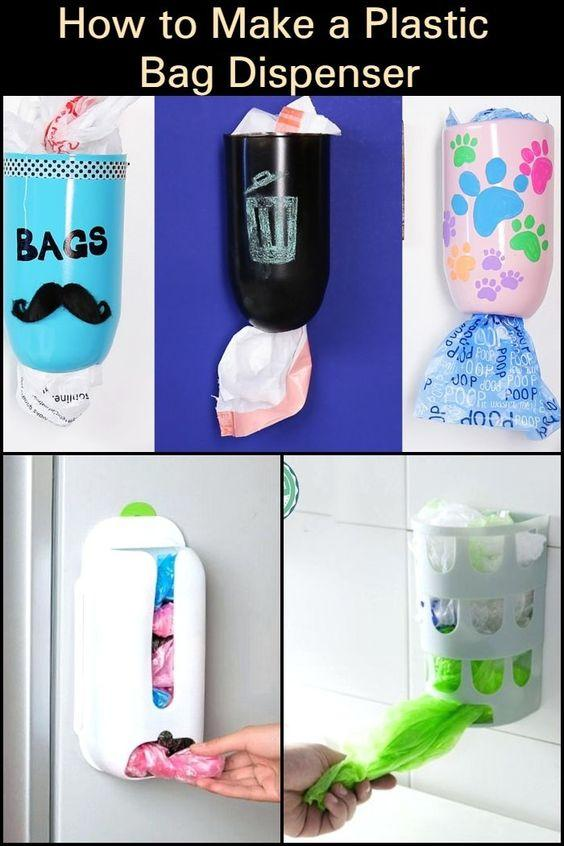HDPE: (52, 473, 240, 792), (372, 480, 564, 742)
PP: (210, 87, 370, 370)
